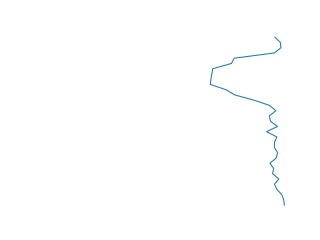distalBar: (204, 36, 292, 206)
